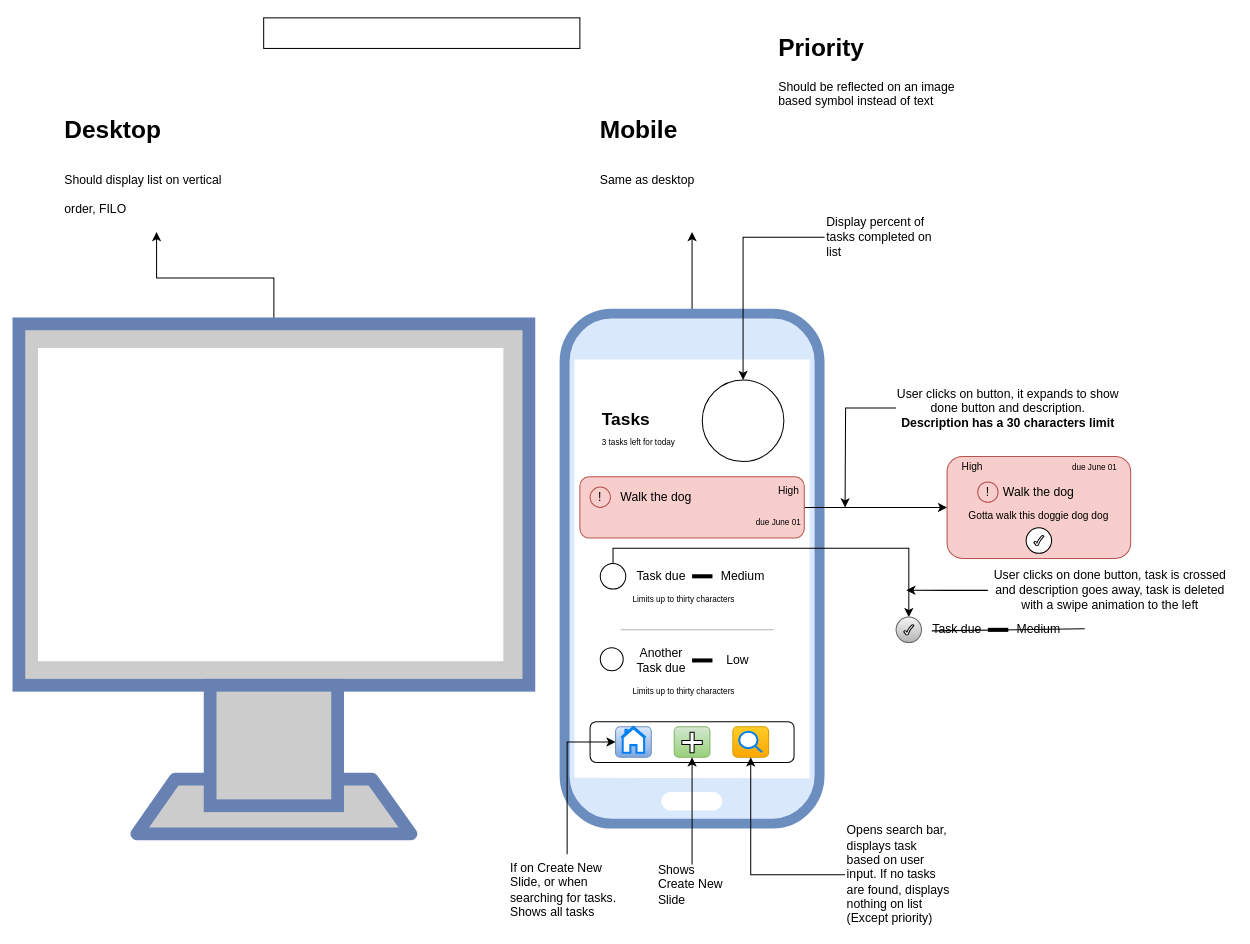
Image size: 1250x944. Some labels were removed from this diagram. The centre of each missing label's shape, as x and y in pixels:
75% done: pixel 742 420
tasking_managing: pixel 421 32
